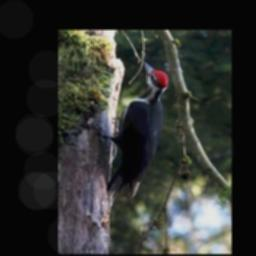Woodpecker: (89, 60, 169, 210)
